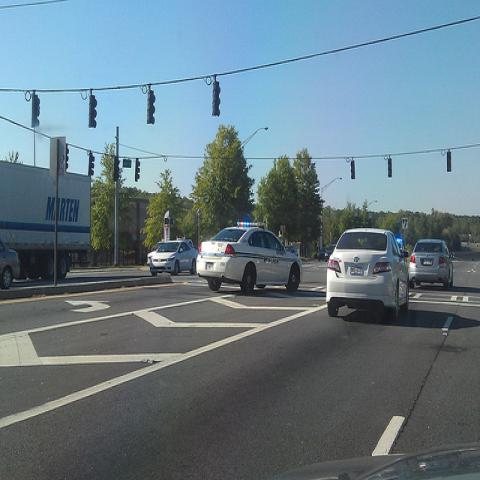car: (326, 227, 410, 321), (197, 221, 304, 294), (410, 239, 454, 290), (150, 239, 198, 276), (0, 239, 21, 289), (317, 247, 333, 262)
truck: (0, 162, 91, 280)
